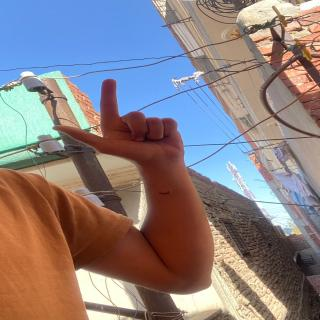LAAM: (50, 74, 199, 166)
